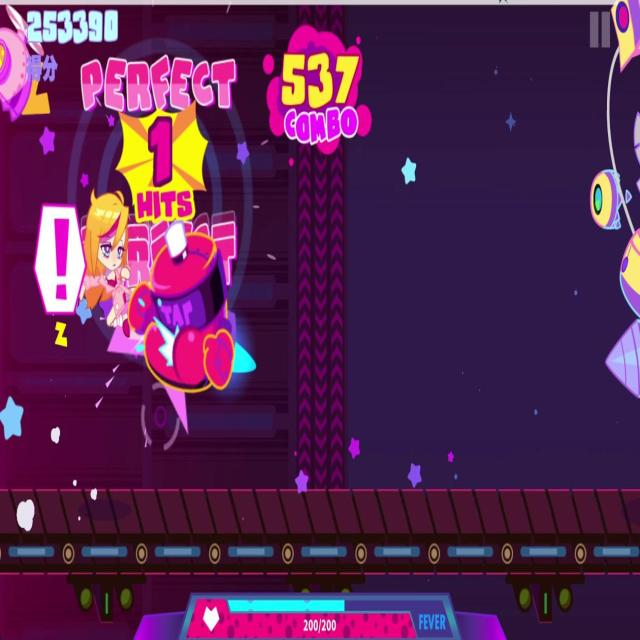jiqiqiu: (0, 0, 47, 128)
tapboss: (145, 226, 234, 390)
